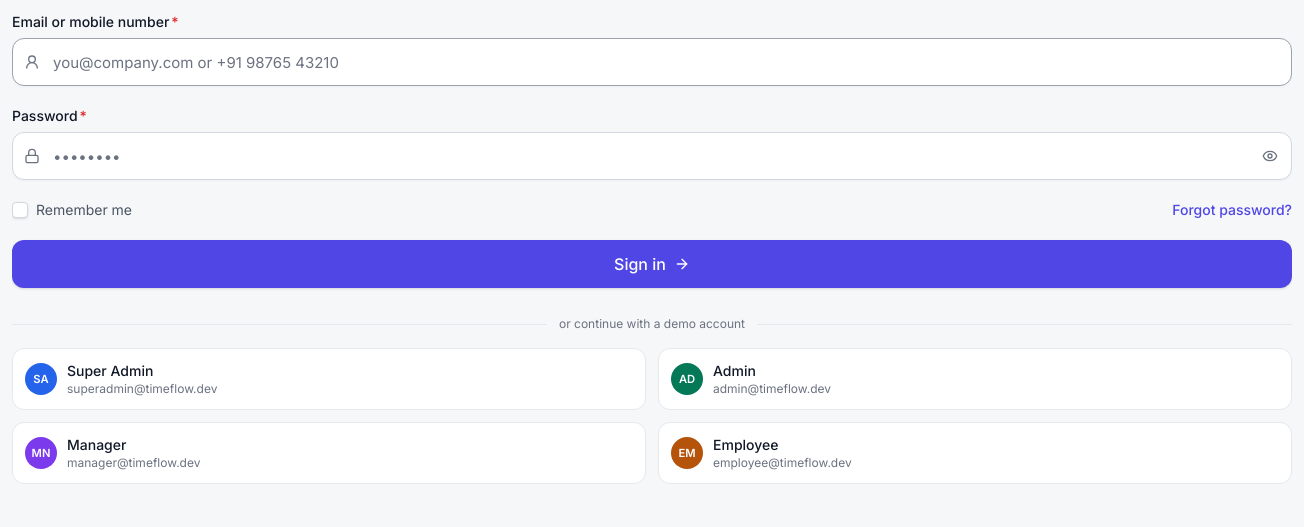
Test: LoginForm › rejects a malformed email
Type "not@an-email" into the field labelled "Email or mobile number*" at coordinates (652, 62), box [12,38,1292,86]
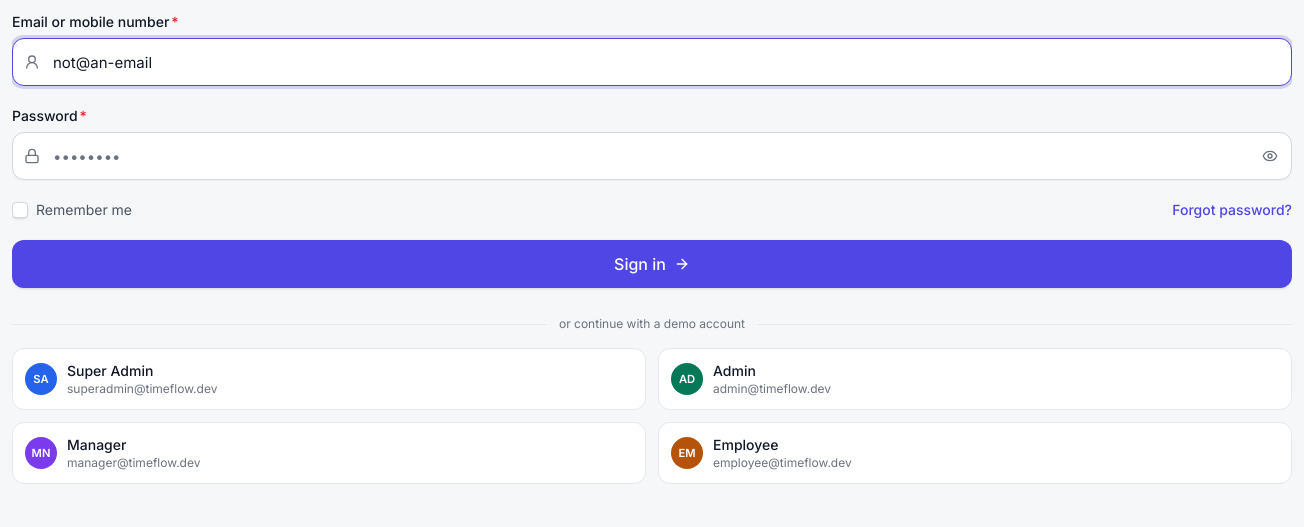
Type "secret" into the password field labelled "Password*" at coordinates (652, 156), box [12,132,1292,180]
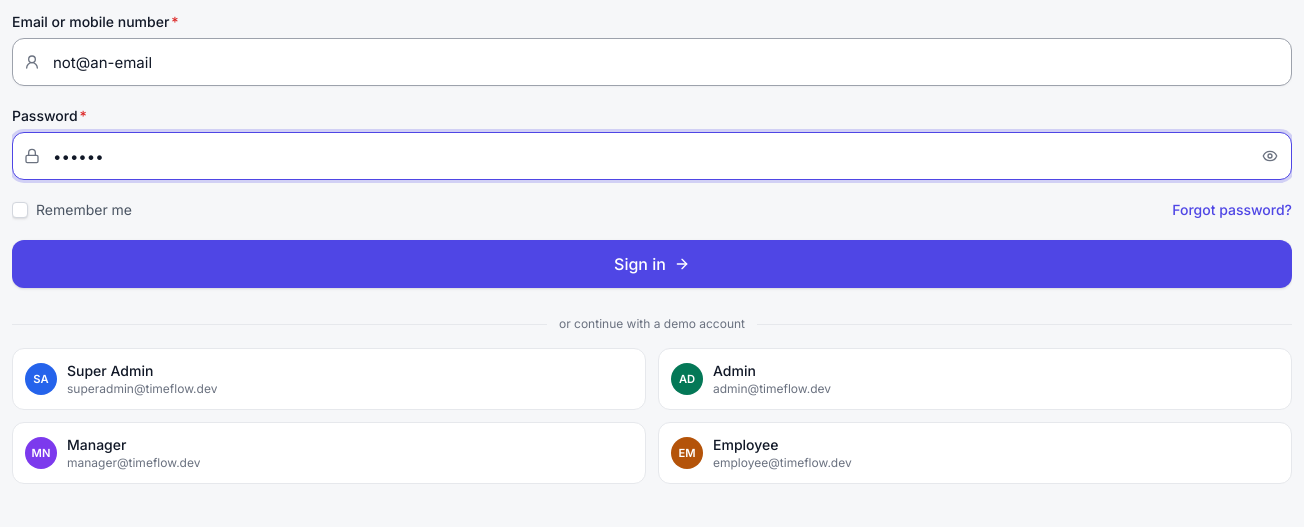
Click the button "Sign in" at coordinates (652, 264), box [12,240,1292,288]
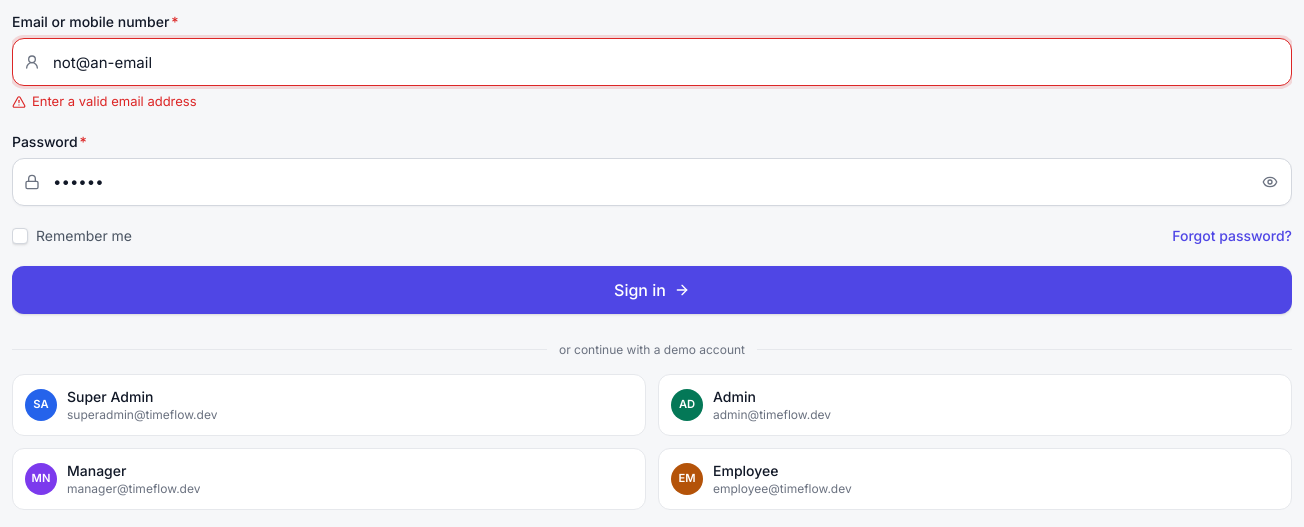
Expected: the text "Enter a valid email address" is shown, [12,93,197,109]
